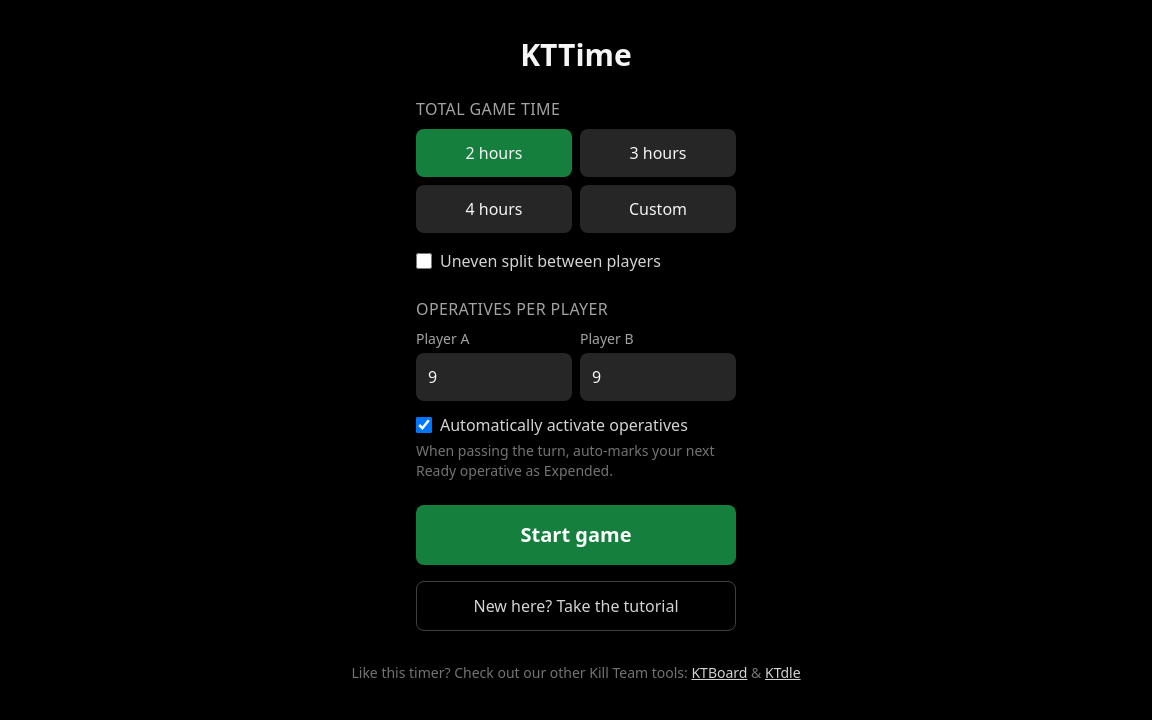
Test: App › advancing the turning point covers the grid with an initiative prompt; tapping a zone resolves it
Click the button "Start game": click(576, 535) 416,505 -> 736,565
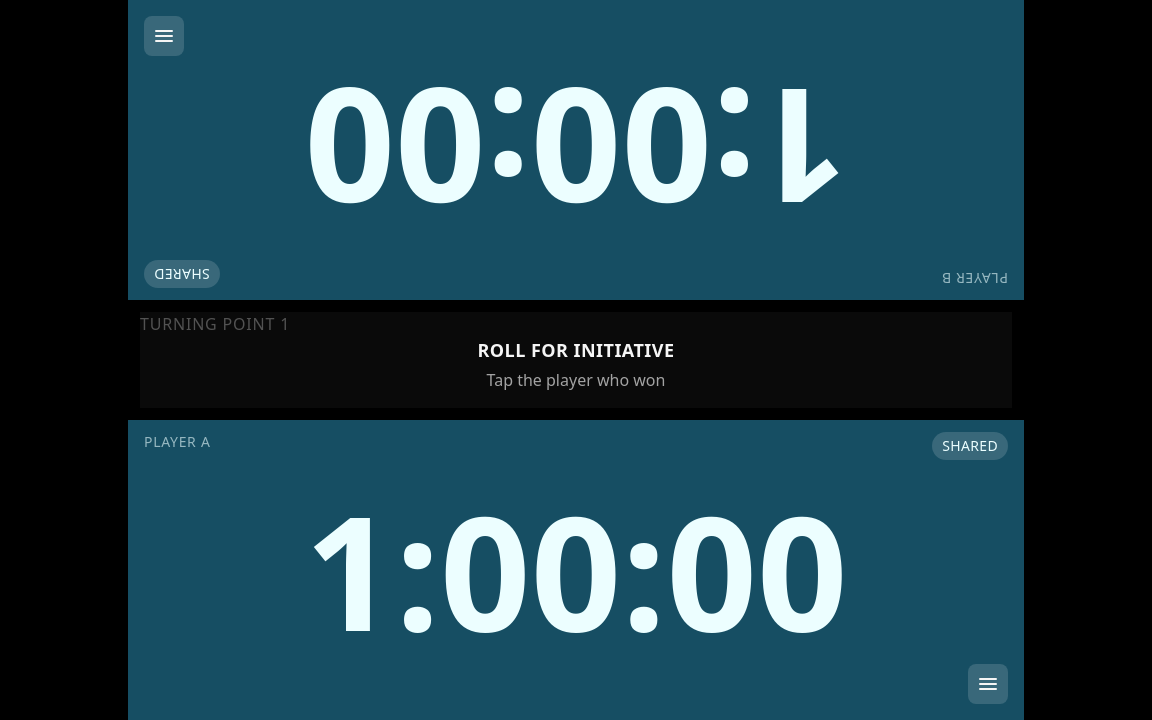
Click the button named "Player A zone": click(576, 570) 128,420 -> 1024,719
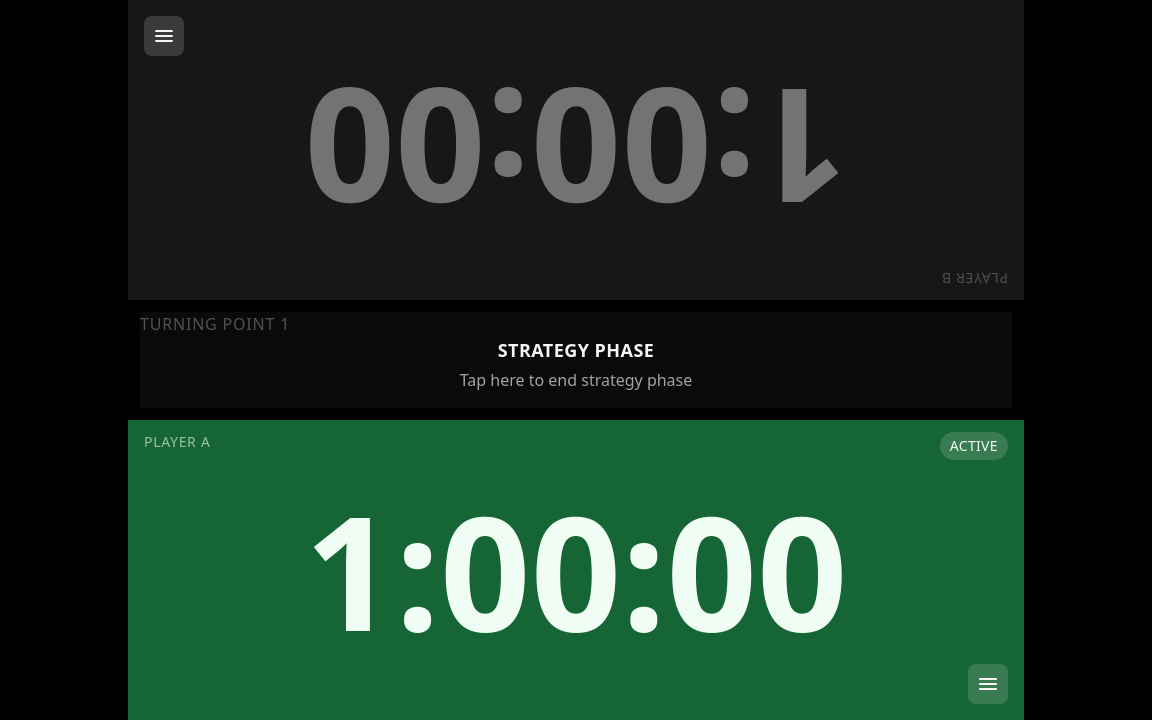
Press the mouse on the button named "Player A zone": (576, 570) 128,420 -> 1024,719
Wait 600 ms
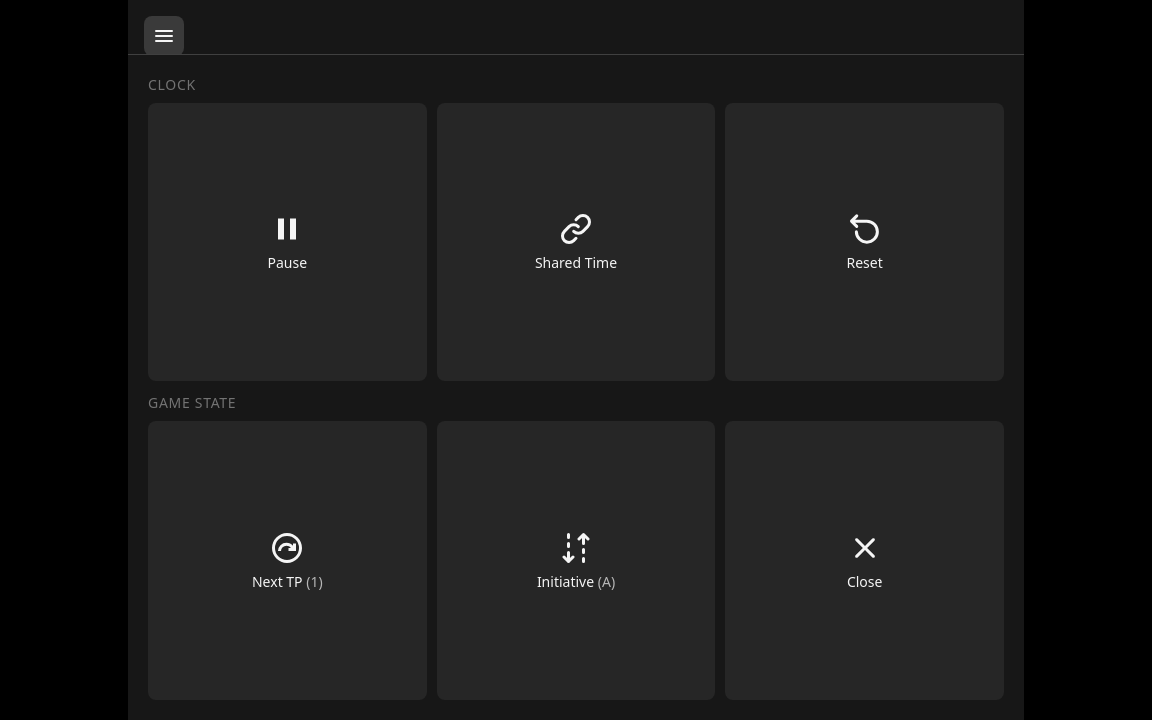
Click the button "Next TP (1)": click(287, 561) 148,421 -> 427,700
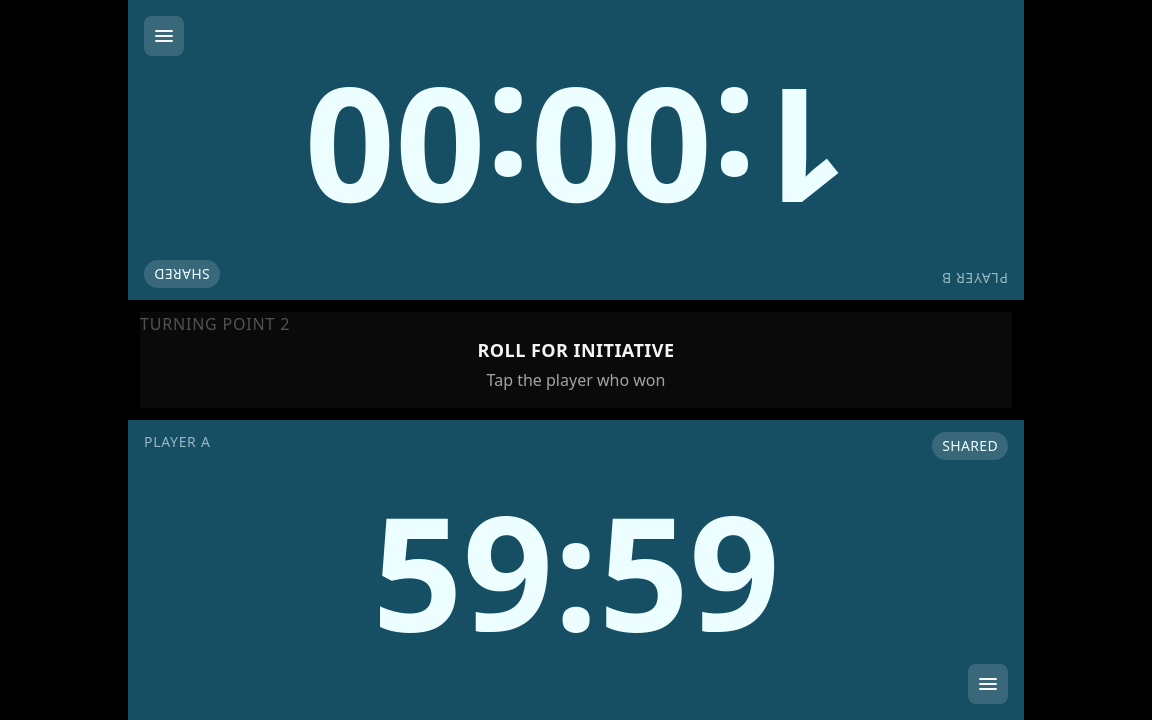
Expected: the text "Shared" is shown 2 times, 144,260 -> 220,288; 932,432 -> 1008,460
Expected: the text "Roll for initiative" is shown, 478,336 -> 674,364
Click the button named "Player B zone": click(576, 150) 128,0 -> 1024,300
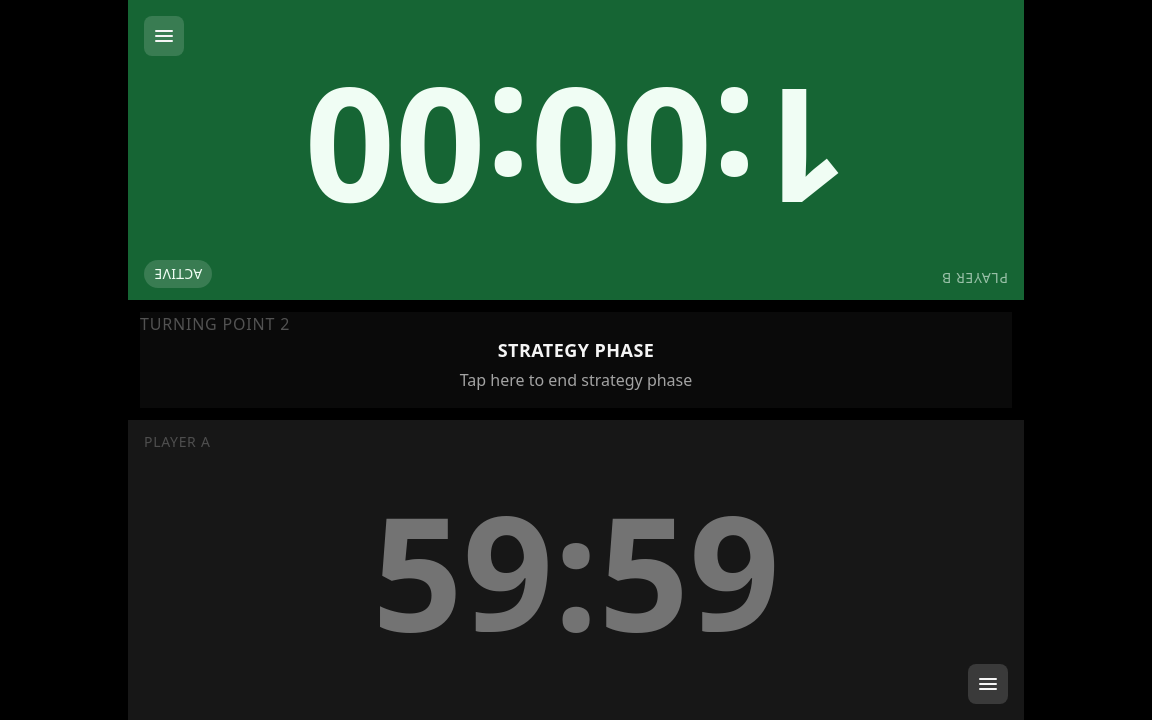
Expected: the text "Roll for initiative" is gone
Expected: the text "Active" is shown once, 144,260 -> 212,288
Expected: the text "Player B" shows "Active", 154,265 -> 202,284
